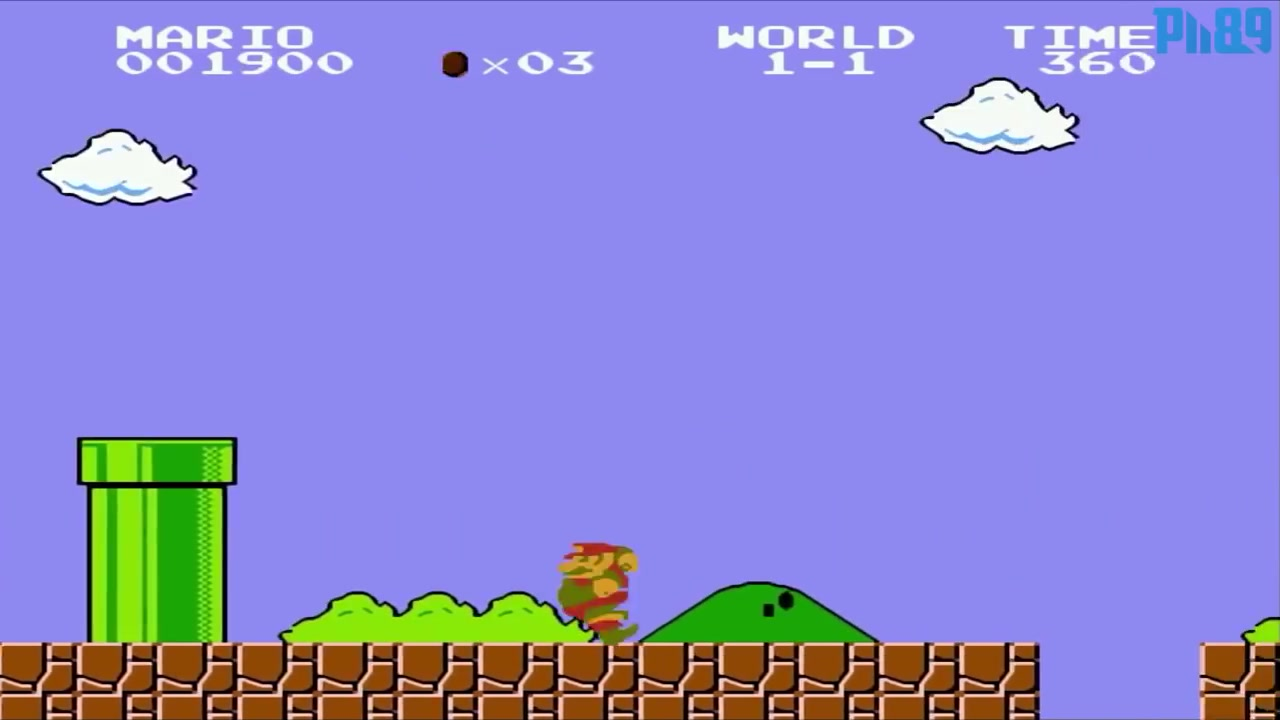mario: (549, 534, 652, 646)
